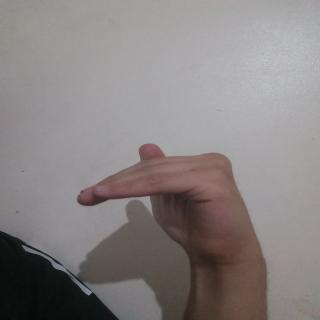KHAA: (75, 137, 266, 251)
